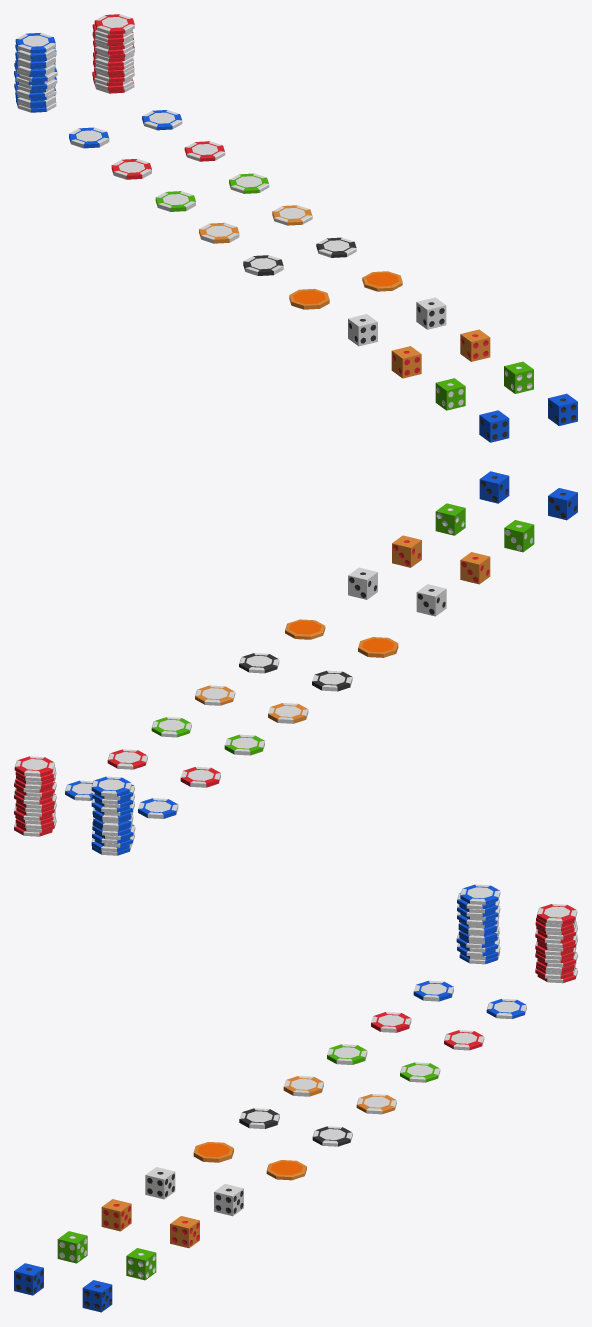
File: simple_low_poly_casino_chips_and_dices.glb
3 renders of one model, top to bottom at view 1: azimuth 30°, elevation 25°; view 2: azimuth 150°, elevation 25°; view 3: azimuth 330°, elevation 25°, orthographic.
Visible parts, largest first — view 1: pile_blue_chips, piile_red_chips, dice_orange, dice_white_v2, dice_orange_v2, dice_green, dice_blue, dice_white, dice_green_v3, dice_blue_c2, chip_yellow, chip_green (+10 smaller); view 2: pile_blue_chips, piile_red_chips, dice_white, dice_green_v3, dice_blue_c2, dice_orange, dice_green, dice_white_v2, dice_orange_v2, dice_blue, chip_yellow, chip_red (+10 smaller); view 3: pile_blue_chips, piile_red_chips, dice_orange, dice_green, dice_white, dice_green_v3, dice_blue_c2, dice_white_v2, dice_blue, dice_orange_v2, chip_red, chip_green (+10 smaller).
Part boxes in pixels (x1,y1,x2,y2): pile_blue_chips: (14, 33, 57, 112); piile_red_chips: (92, 14, 134, 93); dice_orange: (391, 346, 421, 378); dice_white_v2: (416, 297, 446, 329); dice_orange_v2: (460, 329, 490, 361); dice_green: (435, 378, 465, 410); dice_blue: (479, 410, 509, 442); dice_white: (348, 314, 377, 346); dice_green_v3: (504, 361, 533, 393); dice_blue_c2: (548, 393, 577, 425); chip_yellow: (199, 222, 239, 243); chip_green: (155, 191, 195, 211); pile_blue_chips: (91, 776, 135, 855); piile_red_chips: (14, 756, 56, 836); dice_white: (416, 584, 446, 616); dice_green_v3: (435, 503, 465, 535); dice_blue_c2: (479, 471, 509, 503); dice_orange: (460, 552, 490, 584); dice_green: (504, 520, 534, 552); dice_white_v2: (348, 567, 377, 599); dice_orange_v2: (392, 535, 421, 567); dice_blue: (548, 488, 577, 520); chip_yellow: (268, 703, 308, 723); chip_red: (180, 767, 220, 787); pile_blue_chips: (456, 884, 500, 964); piile_red_chips: (535, 904, 577, 983); dice_orange: (101, 1199, 131, 1231); dice_green: (57, 1231, 87, 1263); dice_white: (145, 1167, 175, 1199); dice_green_v3: (126, 1248, 156, 1280); dice_blue_c2: (82, 1280, 112, 1312); dice_white_v2: (214, 1184, 243, 1216); dice_blue: (14, 1263, 43, 1295); dice_orange_v2: (170, 1216, 199, 1248); chip_red: (371, 1012, 411, 1032); chip_green: (327, 1044, 367, 1064).
Bounding box in the file's own units: 0.0432 × 0.0225 × 0.3024.
